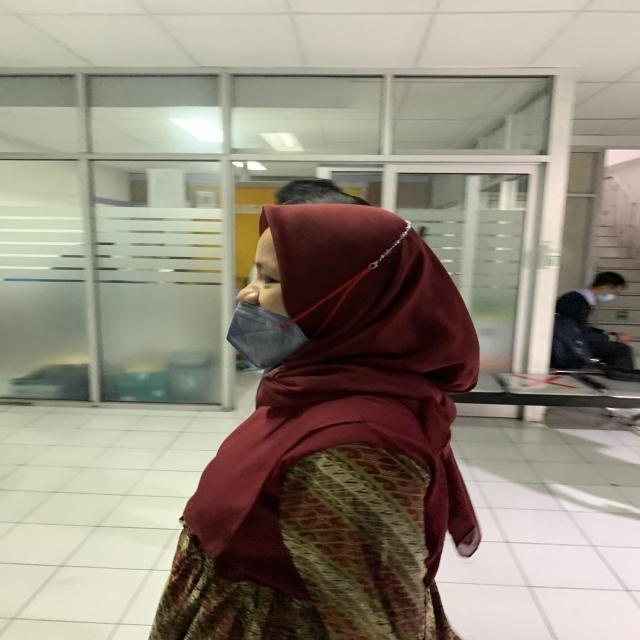hairnet: (214, 283, 299, 372)
